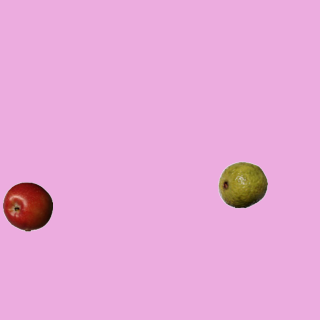Apple Braeburn: (2, 181, 52, 231)
Guava: (217, 159, 267, 209)
